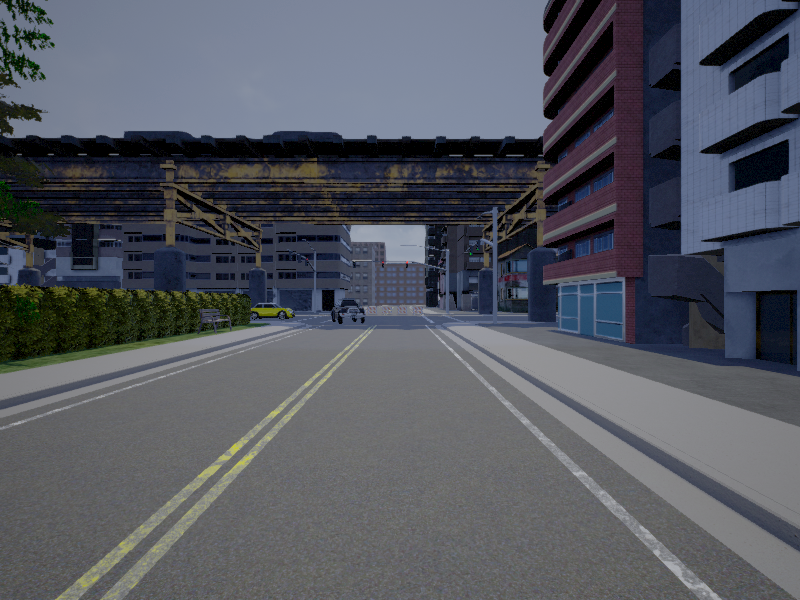Benign: (329, 300, 369, 325), (247, 301, 295, 320)
